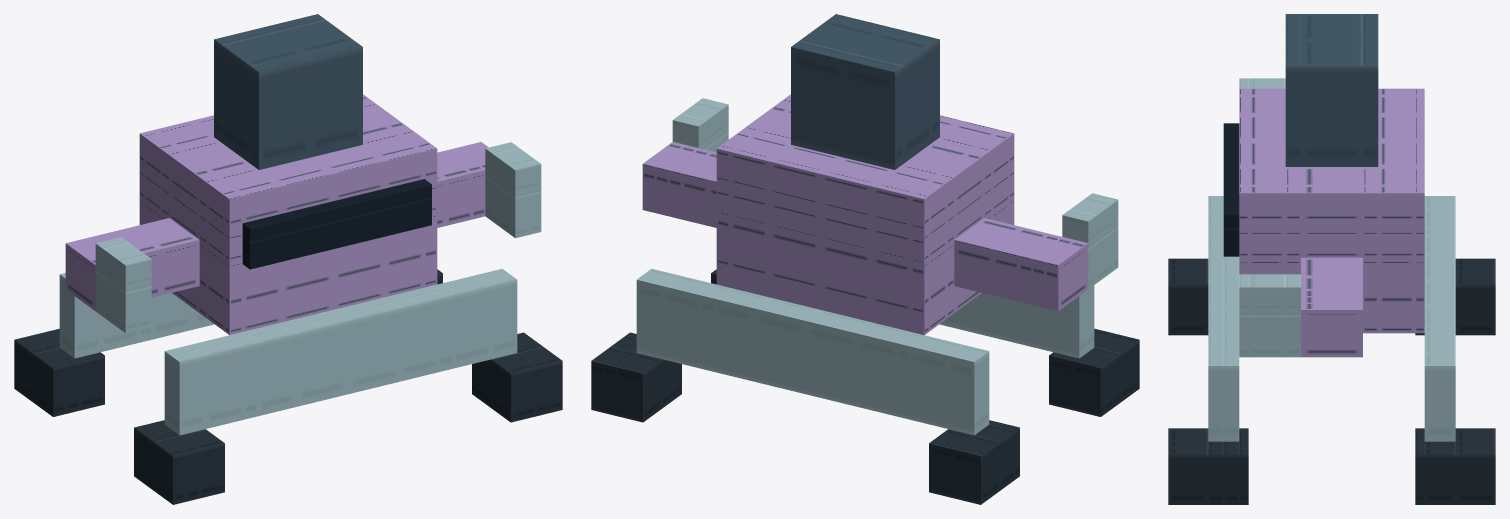
The model's file is sc_lobby_robot_skitter.obj.
3 views of the same model, side by side, from view 1: azimuth 30°, elevation 25°; view 2: azimuth 150°, elevation 25°; view 3: azimuth 270°, elevation 25° (orthographic). The views are drawn at different scales.
Size of the model in its own units: 16 by 13.1 by 10.6.
1 material, 1 textured.
